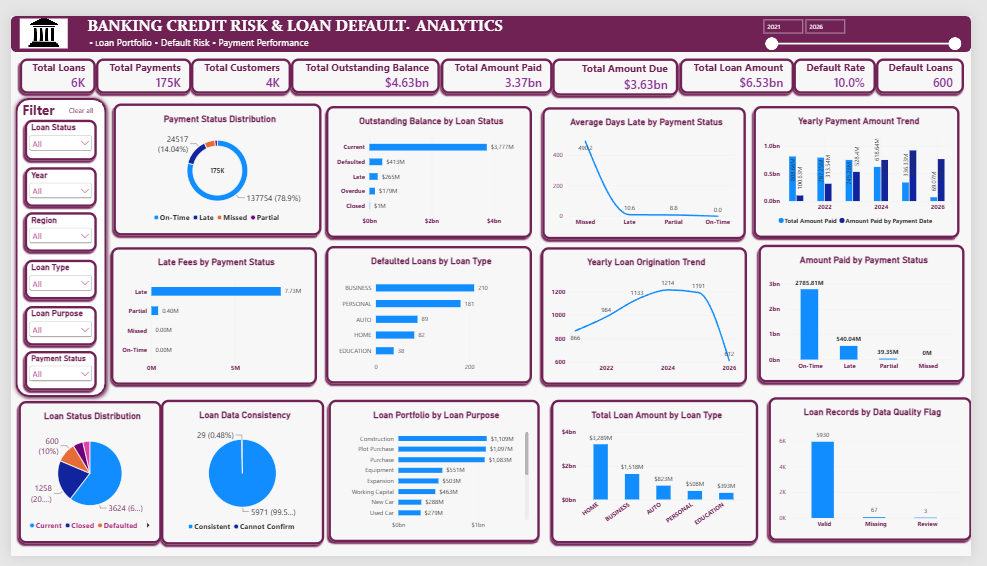

Layout of this report page (visuals, bound fields, positions):
{"tool":"powerbi","page":{"name":"Credit Risk Overview","canvas":[1920,1080],"ordinal":0},"visuals":[{"type":"shape","box":[0,0,1920,72],"z":0},{"type":"cardVisual","fields":{"Data":["Measure.Total Loans"]},"box":[18,86,152.3,70],"z":0,"group":"g3"},{"type":"actionButton","box":[0,156,200,616],"z":0,"group":"g4"},{"type":"lineChart","title":"Yearly Loan Origination Trend","fields":{"Category":["Dim_Date.Year"],"Y":["Measure.Total Loans"]},"box":[1059.3,464.6,411.7,275.4],"z":0,"group":"g1"},{"type":"clusteredColumnChart","title":"Total Loan Amount by Loan Type","fields":{"Category":["Dim_LoanType.loan_type"],"Y":["Measure.Total Loan Amount"]},"box":[1080,766.5,414,287.3],"z":0,"group":"g2"},{"type":"textbox","box":[152,0,1252,72],"z":1000},{"type":"actionButton","box":[98.1,172.4,85,35.5],"z":1000,"group":"g4"},{"type":"clusteredColumnChart","title":"Amount Paid by Payment Status","fields":{"Category":["Dim_PaymentStatus.payment_status_clean"],"Y":["Measure.Total Amount Paid"]},"box":[1494.3,457.7,411.7,275.4],"z":1000,"group":"g1"},{"type":"image","box":[18,6,96,60],"z":2000},{"type":"cardVisual","fields":{"Data":["Measure.Total Amount Due"]},"box":[1083.9,86,252.1,74],"z":2000,"group":"g3"},{"type":"clusteredBarChart","title":"Late Fees by Payment Status","fields":{"Category":["Dim_PaymentStatus.payment_status_clean"],"Y":["Measure.Total Late Fees"]},"box":[200,464.6,411.7,275.4],"z":2000,"group":"g1"},{"type":"clusteredBarChart","title":"Loan Portfolio by Loan Purpose","fields":{"Category":["Dim_LoanPurpose.loan_purpose"],"Y":["Measure.Total Loan Amount"]},"box":[634,766,422,285],"z":2000,"group":"g2"},{"type":"pieChart","title":"Loan Status Distribution","fields":{"Category":["Dim_LoanStatus.loan_status_clean"],"Y":["Measure.Total Loans"]},"box":[14,768.7,286,285],"z":2500,"group":"g2"},{"type":"cardVisual","fields":{"Data":["Measure.Total Amount Paid"]},"box":[859.6,86,223.3,70],"z":3000,"group":"g3"},{"type":"clusteredColumnChart","title":"Yearly Payment Amount Trend","fields":{"Category":["Dim_Date.Year"],"Y":["Measure.Total Amount Paid","Measure.Amount Paid by Payment Date"]},"box":[1486,182,411.7,263.9],"z":3000,"group":"g1"},{"type":"slicer","title":"Loan Portfolio by Status","fields":{"Values":["Dim_LoanPurpose.loan_purpose"]},"box":[27.8,580.4,144,78.8],"z":3000,"group":"g4"},{"type":"clusteredColumnChart","title":"Loan Records by Data Quality Flag","fields":{"Category":["Fact_Loans.loan_amount_quality_flag"],"Y":["CountNonNull(Fact_Loans.loan_id_clean)"]},"box":[1514,762,406,287.3],"z":3000,"group":"g2"},{"type":"pieChart","title":"Loan Data Consistency","fields":{"Category":["Fact_Loans.default_consistency_flag"],"Y":["CountNonNull(Fact_Loans.loan_id_clean)"]},"box":[300,766.5,326,289.5],"z":3500,"group":"g2"},{"type":"slicer","title":"Loan Portfolio by Status","fields":{"Values":["Dim_Date.Year"]},"box":[1496.7,3.3,406,66],"z":4000},{"type":"cardVisual","fields":{"Data":["Measure.Defaulted Loans"]},"box":[1730.1,86,175.9,70],"z":4000,"group":"g3"},{"type":"group","id":"g1","title":"Group 1","box":[200,176,1706,564],"z":4000},{"type":"slicer","title":"Loan Portfolio by Status","fields":{"Values":["Dim_LoanStatus.loan_status_clean"]},"box":[28,208,144,81.7],"z":4000,"group":"g4"},{"type":"clusteredBarChart","title":"Defaulted Loans by Loan Type","fields":{"Category":["Dim_LoanType.loan_type"],"Y":["Measure.Defaulted Loans"]},"box":[630.7,460,411.7,275.4],"z":4000,"group":"g1"},{"type":"donutChart","title":"Payment Status Distribution","fields":{"Category":["Dim_PaymentStatus.payment_status_clean"],"Y":["Measure.Total Payments"]},"box":[204,176,415.9,263.9],"z":4500,"group":"g1"},{"type":"lineChart","title":"Average Days Late by Payment Status","fields":{"Category":["Dim_PaymentStatus.payment_status_clean"],"Y":["Measure.Average Days Late"]},"box":[1063.6,182.3,407.5,263.9],"z":4750,"group":"g1"},{"type":"clusteredBarChart","title":"Outstanding Balance by Loan Status","fields":{"Category":["Dim_LoanStatus.loan_status_clean"],"Y":["Measure.Total Outstanding Balance"]},"box":[630.7,180,411.7,263.9],"z":5000,"group":"g1"},{"type":"slicer","fields":{"Values":["Dim_PaymentStatus.payment_status_clean"]},"box":[27.8,671,144,78.8],"z":5000,"group":"g4"},{"type":"group","id":"g2","title":"Group 1","box":[14,762,1906,294],"z":5000},{"type":"slicer","fields":{"Values":["Dim_Region.region"]},"box":[27.8,393.1,144,78.8],"z":6000,"group":"g4"},{"type":"cardVisual","fields":{"Data":["Measure.Total Payments"]},"box":[170.3,86,191.4,70],"z":7000,"group":"g3"},{"type":"slicer","fields":{"Values":["Dim_Date.Year"]},"box":[27.8,302.5,144,78.8],"z":7000,"group":"g4"},{"type":"cardVisual","fields":{"Data":["Measure.Total Loan Amount"]},"box":[1337,86,228.4,70],"z":8000,"group":"g3"},{"type":"slicer","fields":{"Values":["Dim_LoanType.loan_type"]},"box":[27.8,489.7,144,78.8],"z":8000,"group":"g4"},{"type":"textbox","box":[12.4,171.8,85,35.1],"z":8500,"group":"g4"},{"type":"cardVisual","fields":{"Data":["Measure.Total Customers"]},"box":[361.6,86,199.6,70],"z":10000,"group":"g3"},{"type":"group","id":"g3","title":"Group 1","box":[18,86,1888,74],"z":10500},{"type":"group","id":"g4","title":"Group 2","box":[0,156,200,616],"z":10501},{"type":"cardVisual","fields":{"Data":["Measure.Default Rate"]},"box":[1565.4,86,164.6,70],"z":11000,"group":"g3"},{"type":"cardVisual","fields":{"Data":["Measure.Total Outstanding Balance"]},"box":[561.3,86,297.3,69.6],"z":12000,"group":"g3"}]}

Visuals, with their boxes in screenshot pixels (x1, y1, x2, y2), scaled from the page's 1920x1080 canvas onto the 987x566 screenshot:
shape: [left=0, top=0, right=986, bottom=38]
cardVisual - Measure.Total Loans: [left=9, top=45, right=88, bottom=82]
actionButton: [left=0, top=82, right=103, bottom=405]
"Yearly Loan Origination Trend" lineChart: [left=545, top=243, right=756, bottom=388]
"Total Loan Amount by Loan Type" clusteredColumnChart: [left=555, top=402, right=768, bottom=552]
textbox: [left=78, top=0, right=722, bottom=38]
actionButton: [left=50, top=90, right=94, bottom=109]
"Amount Paid by Payment Status" clusteredColumnChart: [left=768, top=240, right=980, bottom=384]
image: [left=9, top=3, right=59, bottom=35]
cardVisual - Measure.Total Amount Due: [left=557, top=45, right=687, bottom=84]
"Late Fees by Payment Status" clusteredBarChart: [left=103, top=243, right=314, bottom=388]
"Loan Portfolio by Loan Purpose" clusteredBarChart: [left=326, top=401, right=543, bottom=551]
"Loan Status Distribution" pieChart: [left=7, top=403, right=154, bottom=552]
cardVisual - Measure.Total Amount Paid: [left=442, top=45, right=557, bottom=82]
"Yearly Payment Amount Trend" clusteredColumnChart: [left=764, top=95, right=976, bottom=234]
"Loan Portfolio by Status" slicer: [left=14, top=304, right=88, bottom=345]
"Loan Records by Data Quality Flag" clusteredColumnChart: [left=778, top=399, right=986, bottom=550]
"Loan Data Consistency" pieChart: [left=154, top=402, right=322, bottom=553]
"Loan Portfolio by Status" slicer: [left=769, top=2, right=978, bottom=36]
cardVisual - Measure.Defaulted Loans: [left=889, top=45, right=980, bottom=82]
"Group 1" group: [left=103, top=92, right=980, bottom=388]
"Loan Portfolio by Status" slicer: [left=14, top=109, right=88, bottom=152]
"Defaulted Loans by Loan Type" clusteredBarChart: [left=324, top=241, right=536, bottom=385]
"Payment Status Distribution" donutChart: [left=105, top=92, right=319, bottom=231]
"Average Days Late by Payment Status" lineChart: [left=547, top=96, right=756, bottom=234]
"Outstanding Balance by Loan Status" clusteredBarChart: [left=324, top=94, right=536, bottom=233]
slicer - Dim_PaymentStatus.payment_status_clean: [left=14, top=352, right=88, bottom=393]
"Group 1" group: [left=7, top=399, right=986, bottom=553]
slicer - Dim_Region.region: [left=14, top=206, right=88, bottom=247]
cardVisual - Measure.Total Payments: [left=88, top=45, right=186, bottom=82]
slicer - Dim_Date.Year: [left=14, top=159, right=88, bottom=200]
cardVisual - Measure.Total Loan Amount: [left=687, top=45, right=805, bottom=82]
slicer - Dim_LoanType.loan_type: [left=14, top=257, right=88, bottom=298]
textbox: [left=6, top=90, right=50, bottom=108]
cardVisual - Measure.Total Customers: [left=186, top=45, right=288, bottom=82]
"Group 1" group: [left=9, top=45, right=980, bottom=84]
"Group 2" group: [left=0, top=82, right=103, bottom=405]
cardVisual - Measure.Default Rate: [left=805, top=45, right=889, bottom=82]
cardVisual - Measure.Total Outstanding Balance: [left=289, top=45, right=441, bottom=82]
